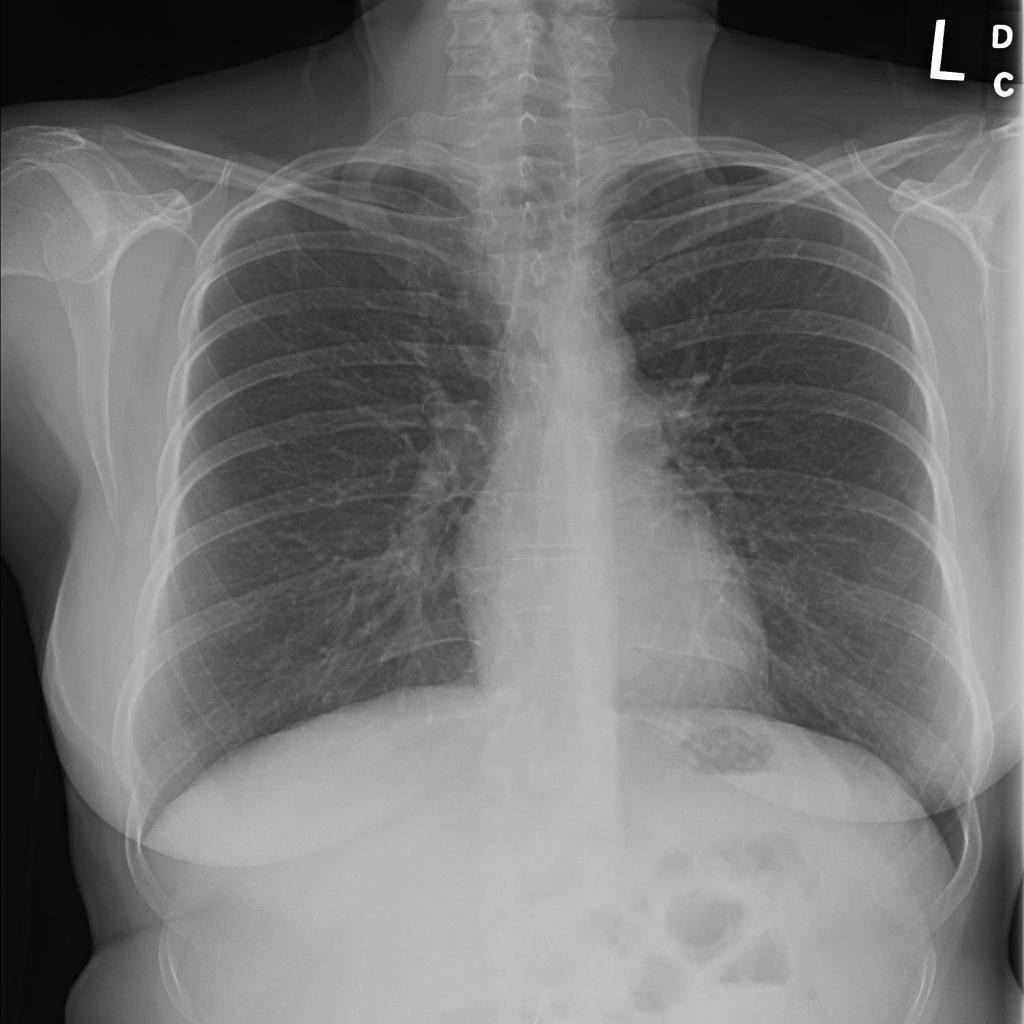Nodule: (141, 237, 190, 265), (388, 234, 419, 256)
